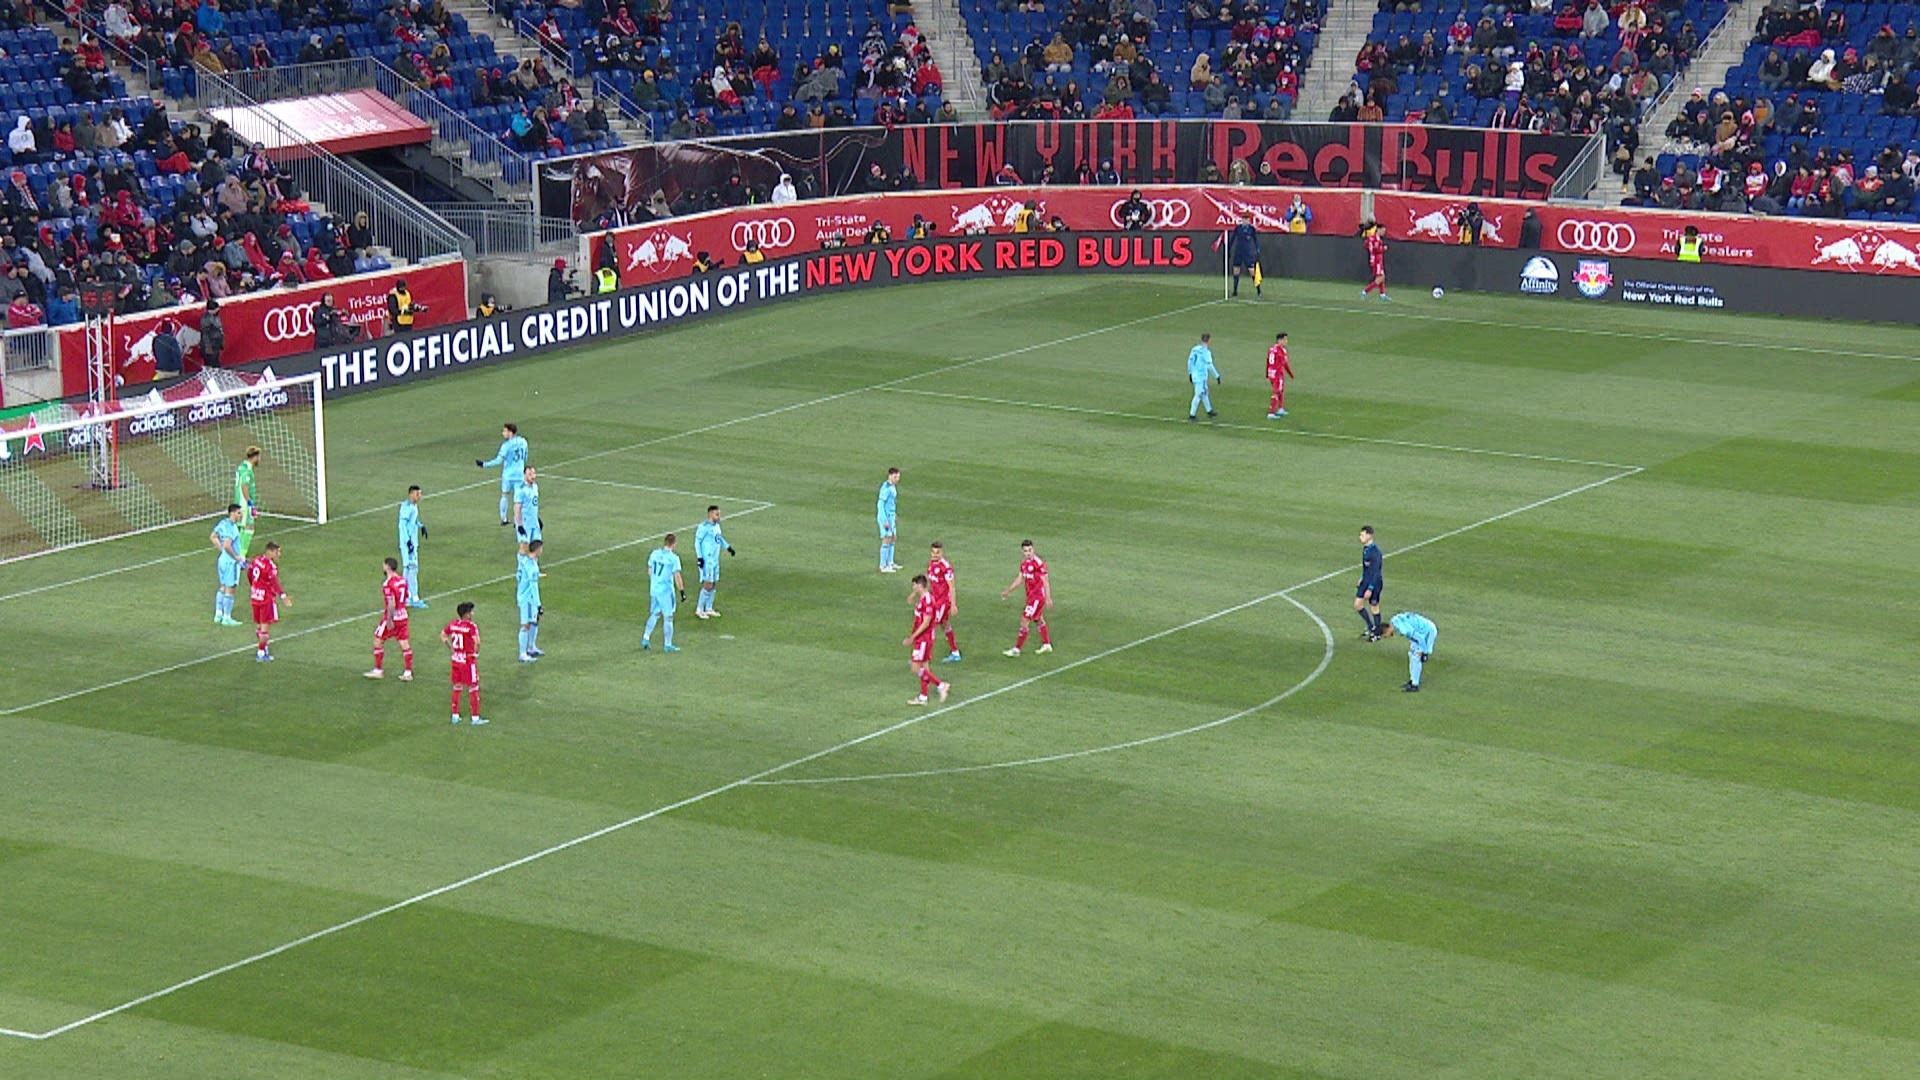football: (1432, 286, 1445, 299)
